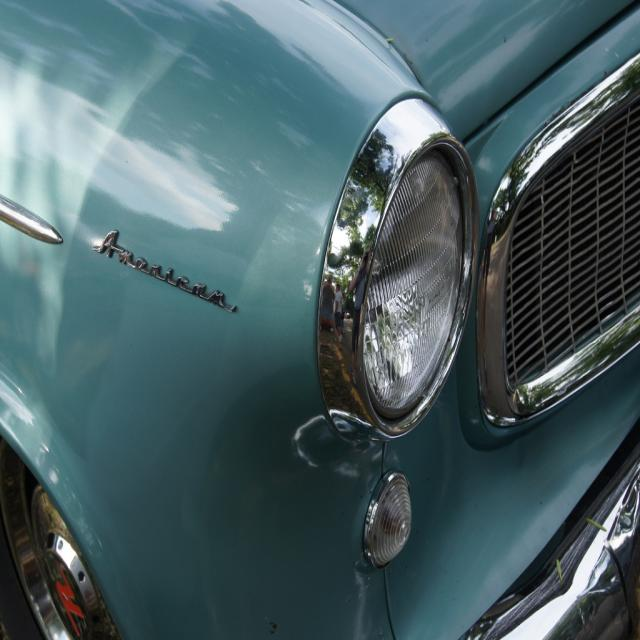Passenger Car: (2, 1, 639, 636)
